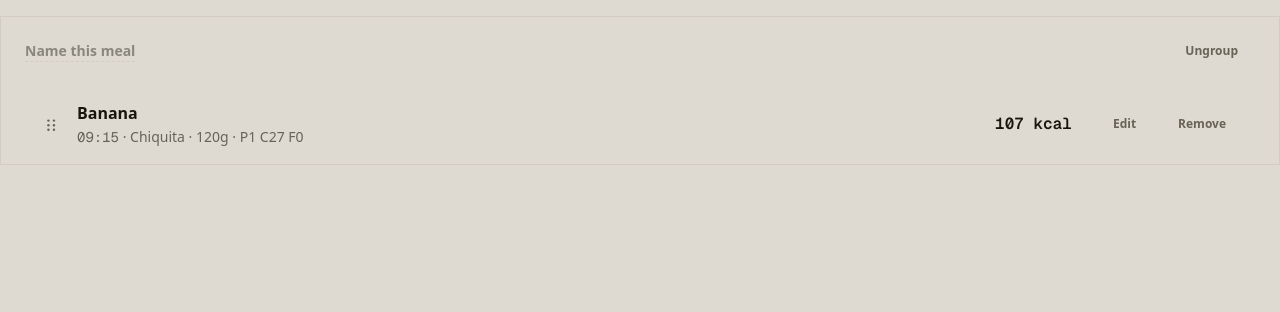
Test: EntryList › edits the consumed-at date and time, pre-filled from the entry
Click the button with aria-label "Edit when Banana was logged". click: [1124, 125]
box: left=1096, top=107, right=1153, bottom=143
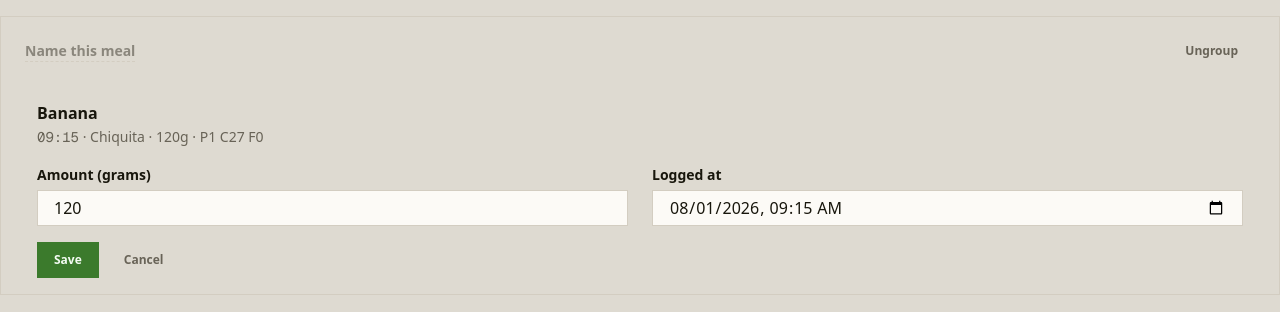
expect the field labelled "Logged at" holds "2026-08-01T09:15": met
expect the number field labelled "Amount (grams)" holds "120": met, box left=37, top=190, right=628, bottom=226
Replace the text in the field labelled "Logged at" with "2026-08-02T13:30". click: [948, 208]
box: left=652, top=190, right=1243, bottom=226
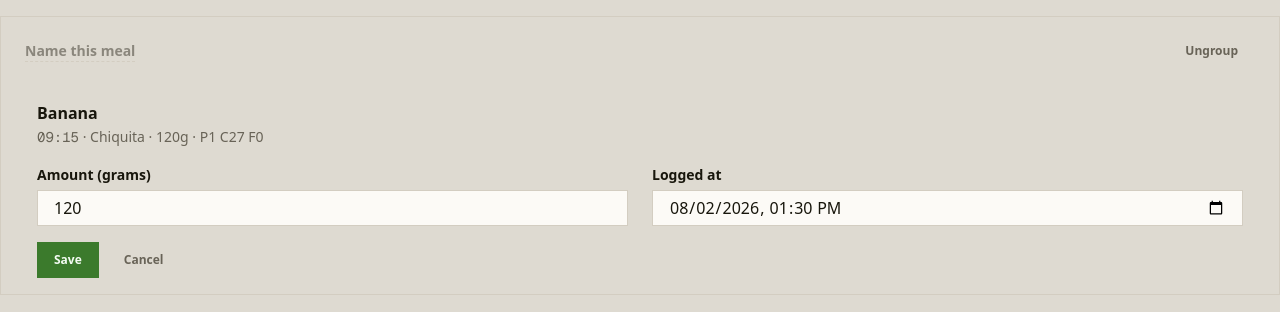
Click the button "Save". click: [68, 260]
box: left=37, top=242, right=99, bottom=278
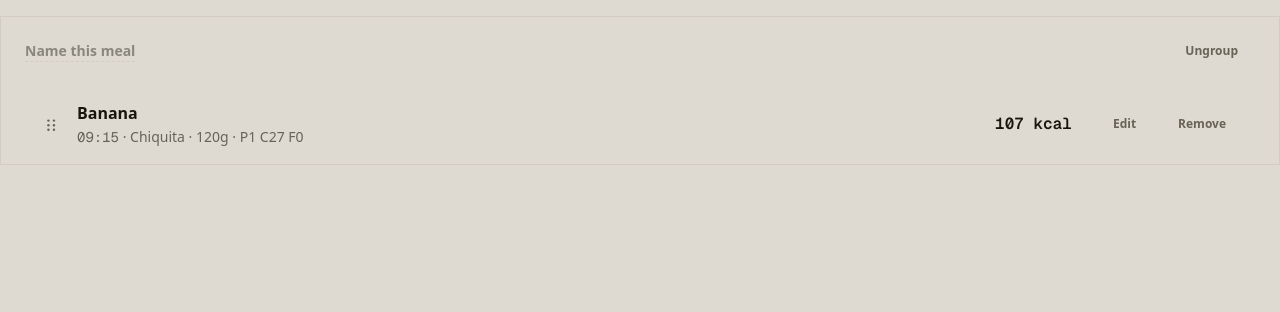
expect the label labelled "Logged at" is gone: met
